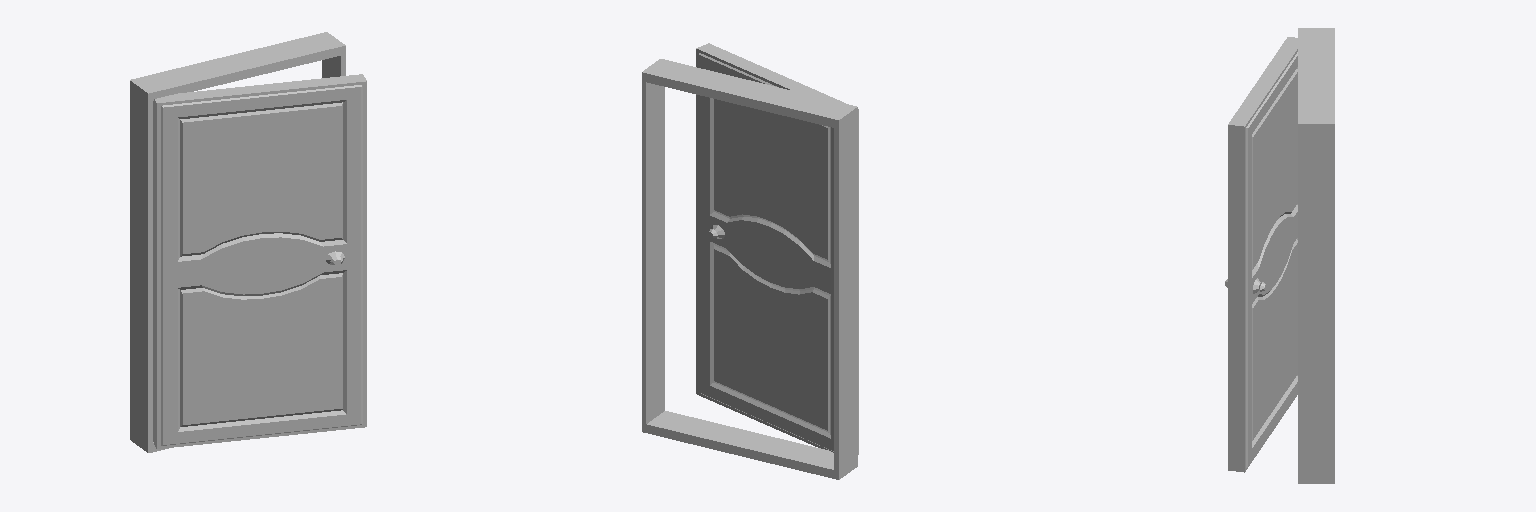
The model's file is drzwiok_000030.obj.
3 views of the same model, side by side, from view 1: azimuth 30°, elevation 25°; view 2: azimuth 150°, elevation 25°; view 3: azimuth 270°, elevation 25° (orthographic).
Visible parts, largest first — view 1: Door_4.001_Cube.001, Kostka; view 2: Door_4.001_Cube.001, Kostka; view 3: Door_4.001_Cube.001, Kostka.
Boxes of the visible parts, x1=… form: Door_4.001_Cube.001: x1=153, y1=74, x2=366, y2=448; Kostka: x1=130, y1=32, x2=345, y2=452; Door_4.001_Cube.001: x1=696, y1=43, x2=858, y2=454; Kostka: x1=642, y1=59, x2=857, y2=479; Door_4.001_Cube.001: x1=1225, y1=37, x2=1297, y2=472; Kostka: x1=1298, y1=28, x2=1334, y2=483.
Bounding box in the file's own units: 0.7416 × 1.29 × 0.3597.